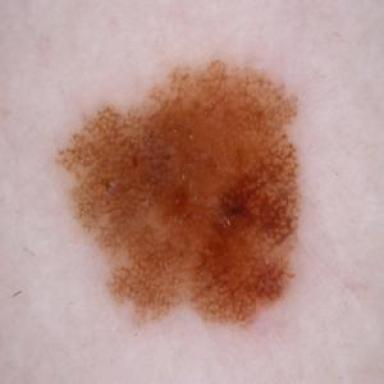Melanoma: (59, 61, 299, 323)
